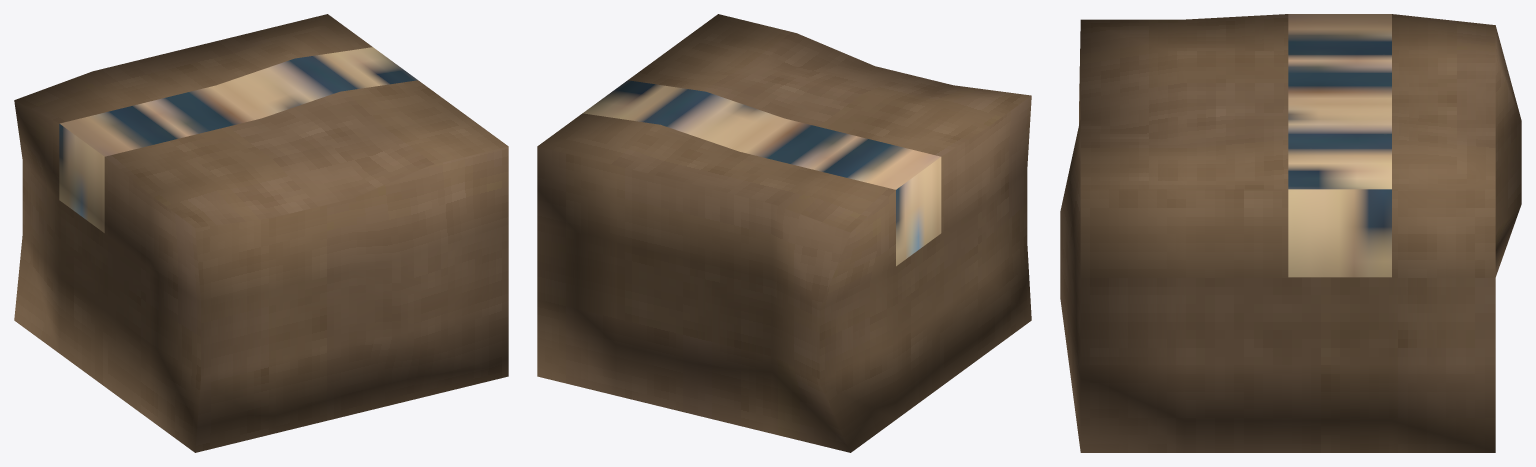
Rendered from CardboardBox.glb.
The picture shows the model from 3 angles, left to right: view 1: azimuth 30°, elevation 25°; view 2: azimuth 150°, elevation 25°; view 3: azimuth 270°, elevation 25°; orthographic projection. The views are drawn at different scales.
Visible parts, largest first — view 1: Cube.105; view 2: Cube.105; view 3: Cube.105.
Part boxes in pixels (x1,y1,x2,y2): Cube.105: (14,14,508,452); Cube.105: (537,14,1031,452); Cube.105: (1060,14,1521,452).
Bounding box in the file's own units: 0.3074 × 0.2227 × 0.3416.
2 materials, 2 textured.
